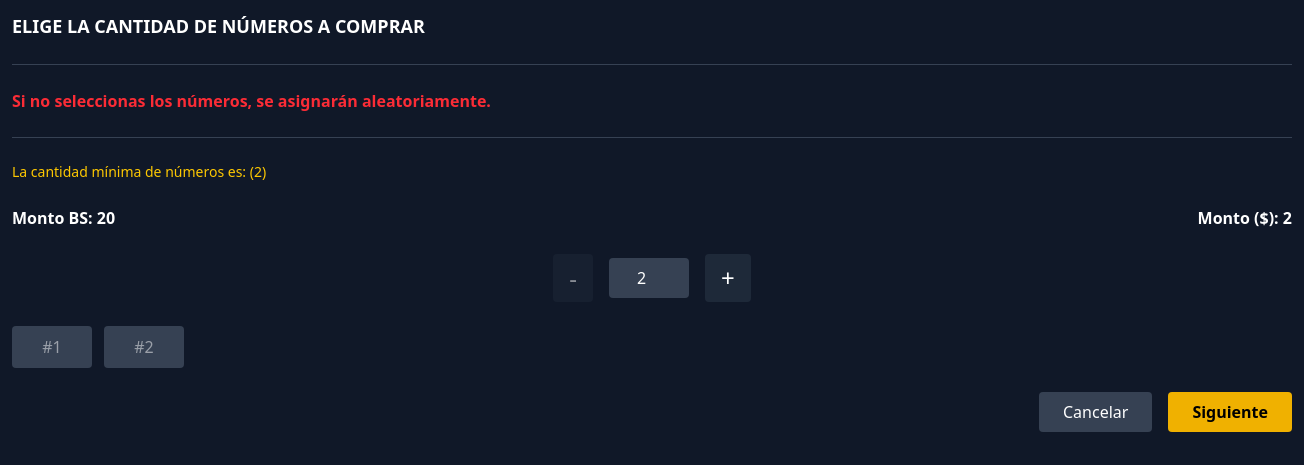
Test case: <QuantitySelector /> › checks availability when numbers provided and shows "No disponible" if any unavailable
This screenshot has width=1304, height=465.
Type "1" into the field named "Número 1". click: x=52, y=347
box: [12,326,92,368]
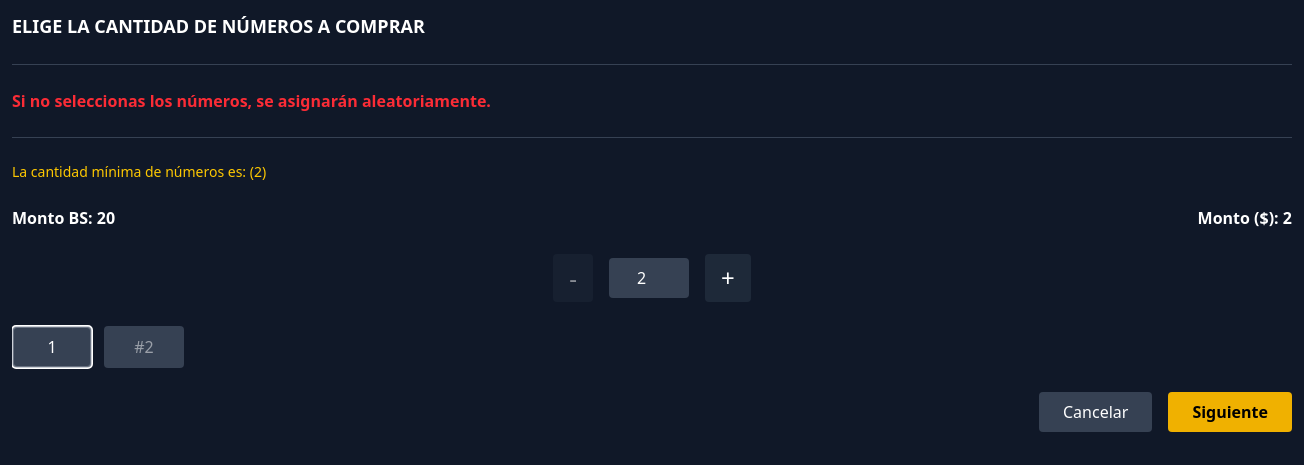
Type "2" into the field named "Número 2". click: x=144, y=347
box: [104,326,184,368]
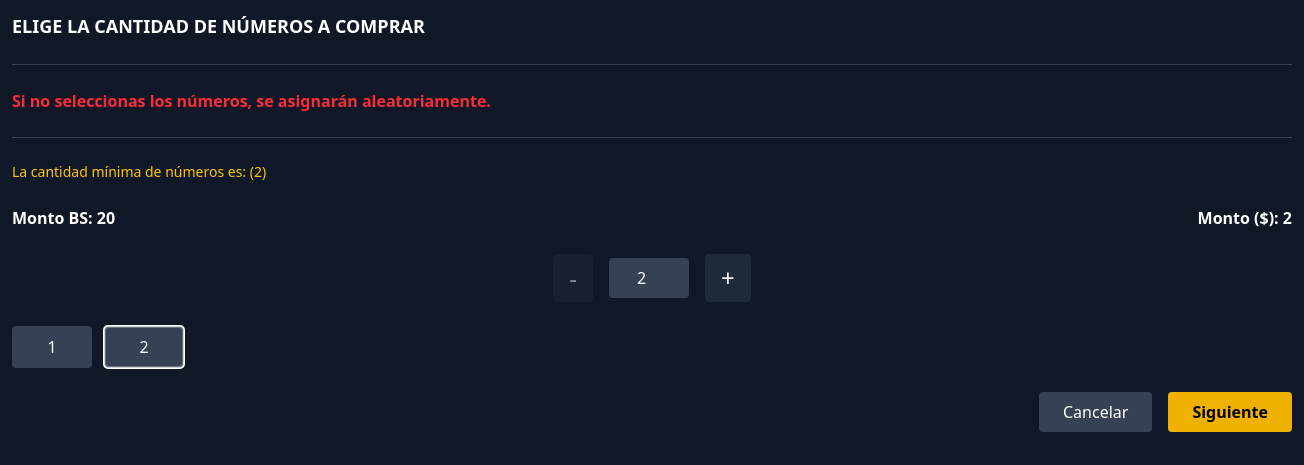
Click the button "Siguiente". click: x=1230, y=412
box: [1168,392,1292,432]
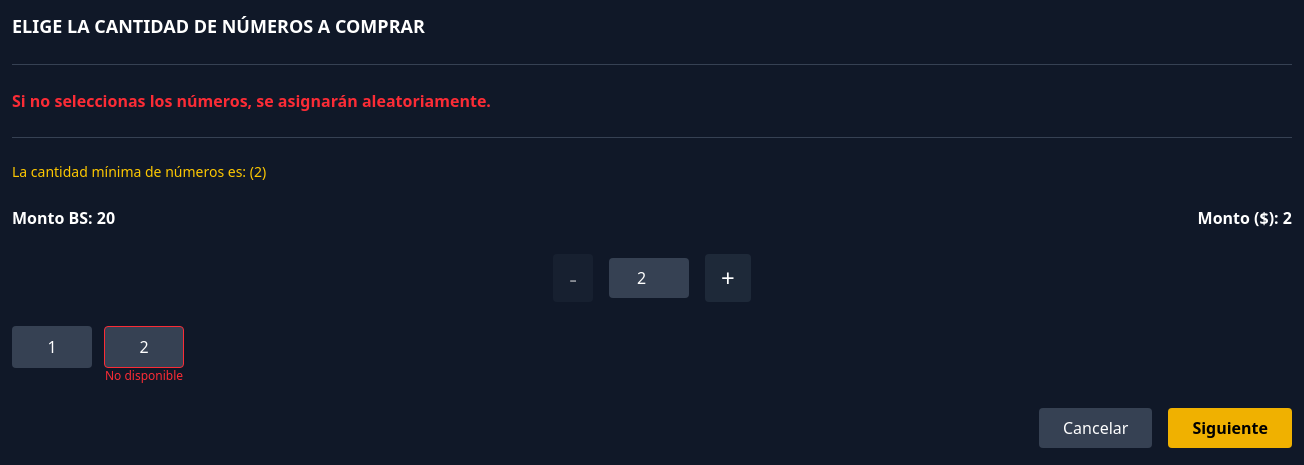
Expected: the text "No disponible" is shown, [105,368,183,384]
